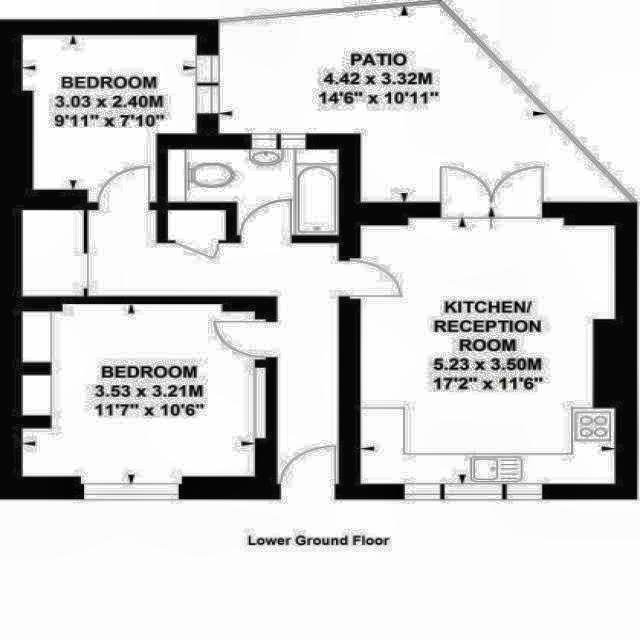room: (219, 3, 632, 218), (22, 210, 339, 484), (360, 225, 616, 484), (21, 303, 266, 483), (22, 35, 197, 203), (168, 149, 339, 236), (168, 210, 227, 240)
